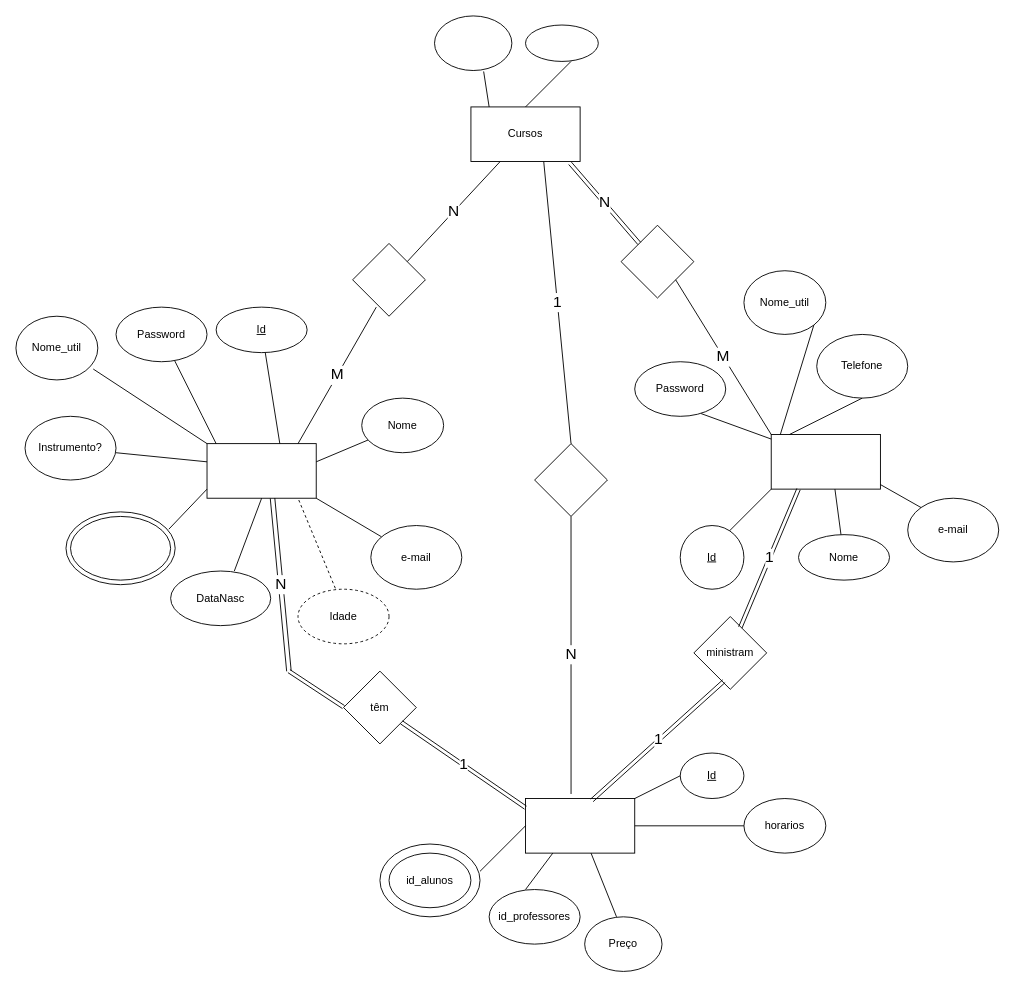
This 1015x987 diagram has some shape labels left out. The box of each missing label's shape, as (x1, y1, x2, y2) in pixels:
Alunos: (206, 443, 316, 498)
associados a: (620, 224, 694, 298)
Aulas: (525, 798, 635, 853)
inscritos em: (352, 243, 425, 316)
Instrumento: (434, 15, 512, 71)
Nível: (525, 24, 598, 61)
pertencem: (534, 443, 607, 516)
Professores: (770, 434, 880, 489)
Telefone?: (70, 516, 171, 580)
